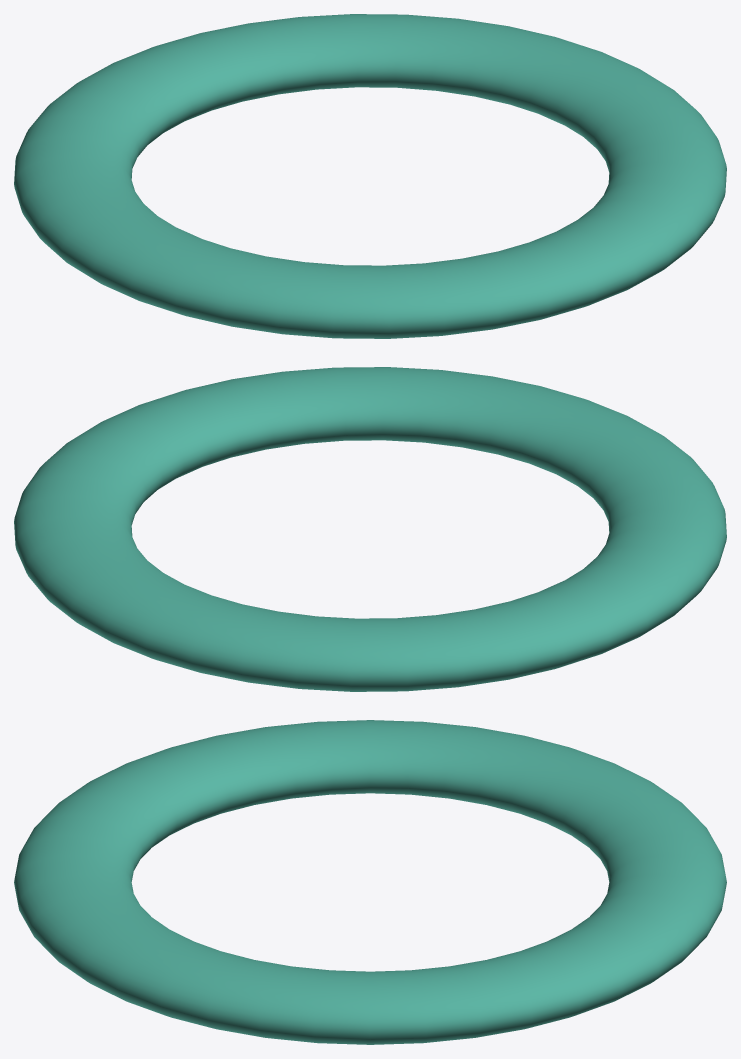
File: hint_circle.fbx
3 views of the same model, one above another, from view 1: azimuth 30°, elevation 25°; view 2: azimuth 150°, elevation 25°; view 3: azimuth 270°, elevation 25° (orthographic).
Parts seen in each view (by area): view 1: pTorus1; view 2: pTorus1; view 3: pTorus1.
Boxes of the visible parts, x1=… form: pTorus1: x1=14, y1=14, x2=726, y2=338; pTorus1: x1=14, y1=367, x2=726, y2=691; pTorus1: x1=14, y1=720, x2=726, y2=1044.
Size of the model in its own units: 11.83 by 0.9878 by 11.83.
